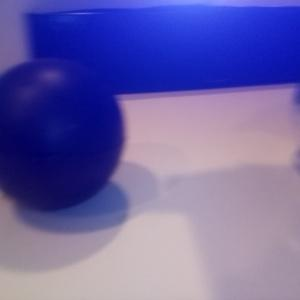dead_ball: (1, 57, 124, 211)
